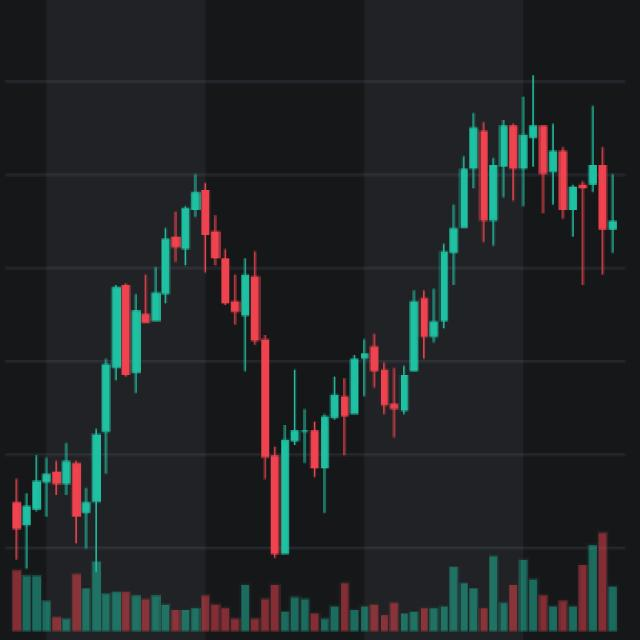Channel-up: (239, 83, 535, 611)
Head-Shoulders: (94, 142, 282, 440)
